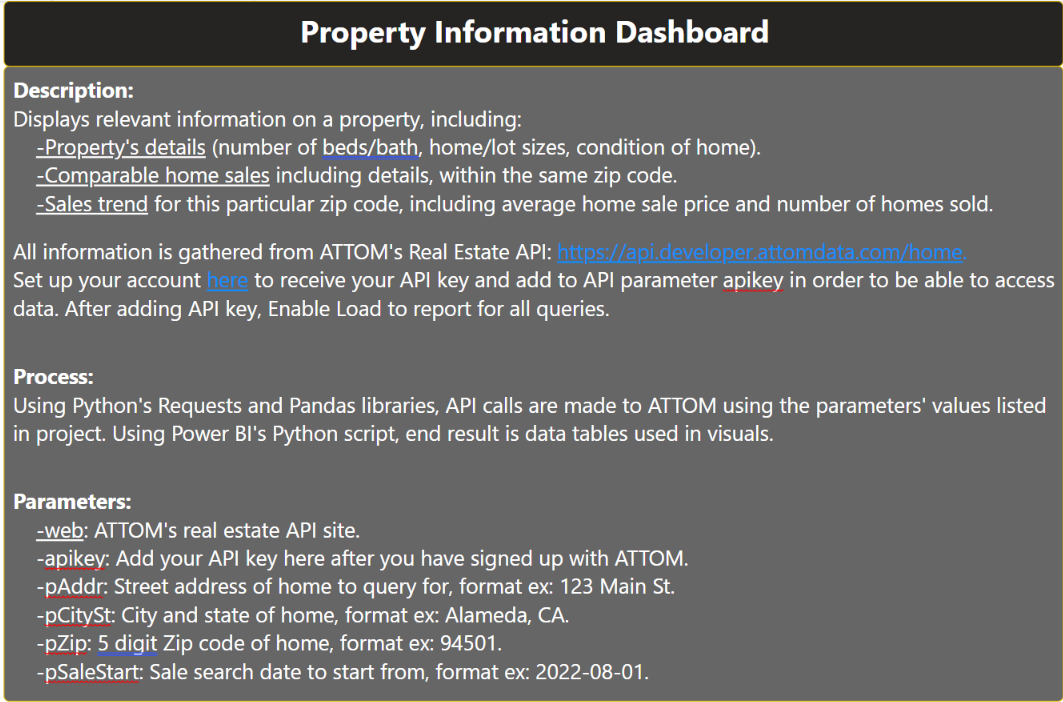

This screenshot's page, from the dashboard's own definition file:
{"tool":"powerbi","page":{"name":"Introduction","canvas":[1280,720],"ordinal":0},"visuals":[{"type":"textbox","box":[166.1,0,929.7,57.3],"z":0},{"type":"textbox","box":[166.1,57.3,929.7,557.4],"z":1000}]}

Visuals, with their boxes on the page's 1280x720 design canvas (x1, y1, x2, y2). These are canvas units, not pixel positions in the 1063x702 screenshot, which may show the page scaled, cropped or inside an application window:
textbox: (left=166, top=0, right=1096, bottom=57)
textbox: (left=166, top=57, right=1096, bottom=615)
